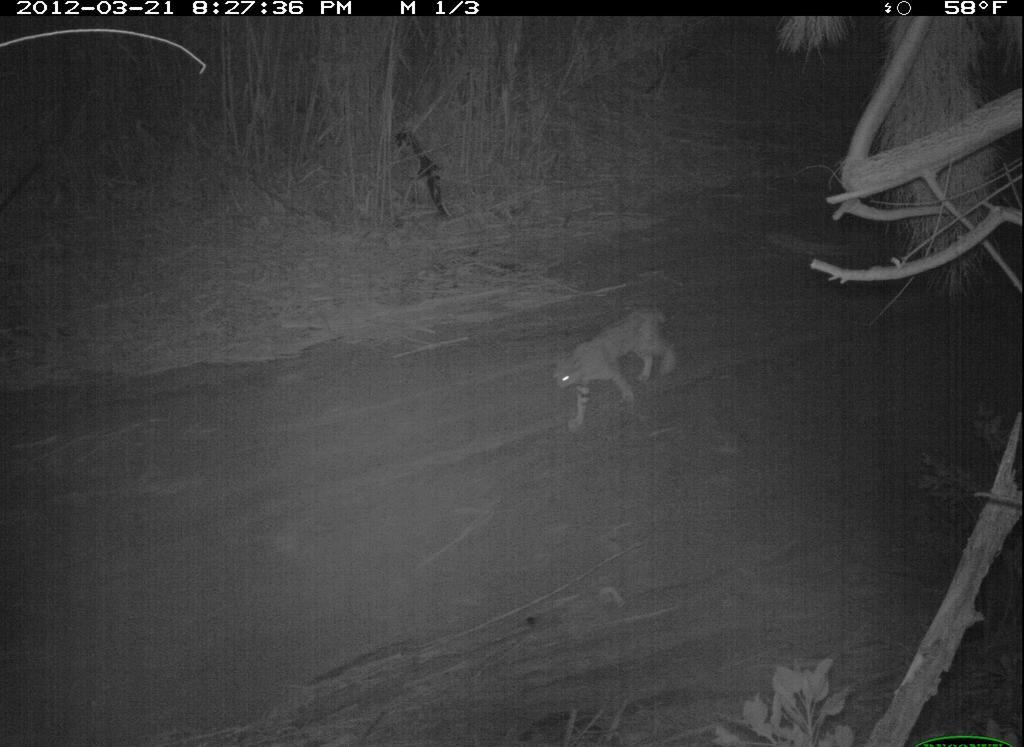bobcat: (546, 300, 687, 436)
